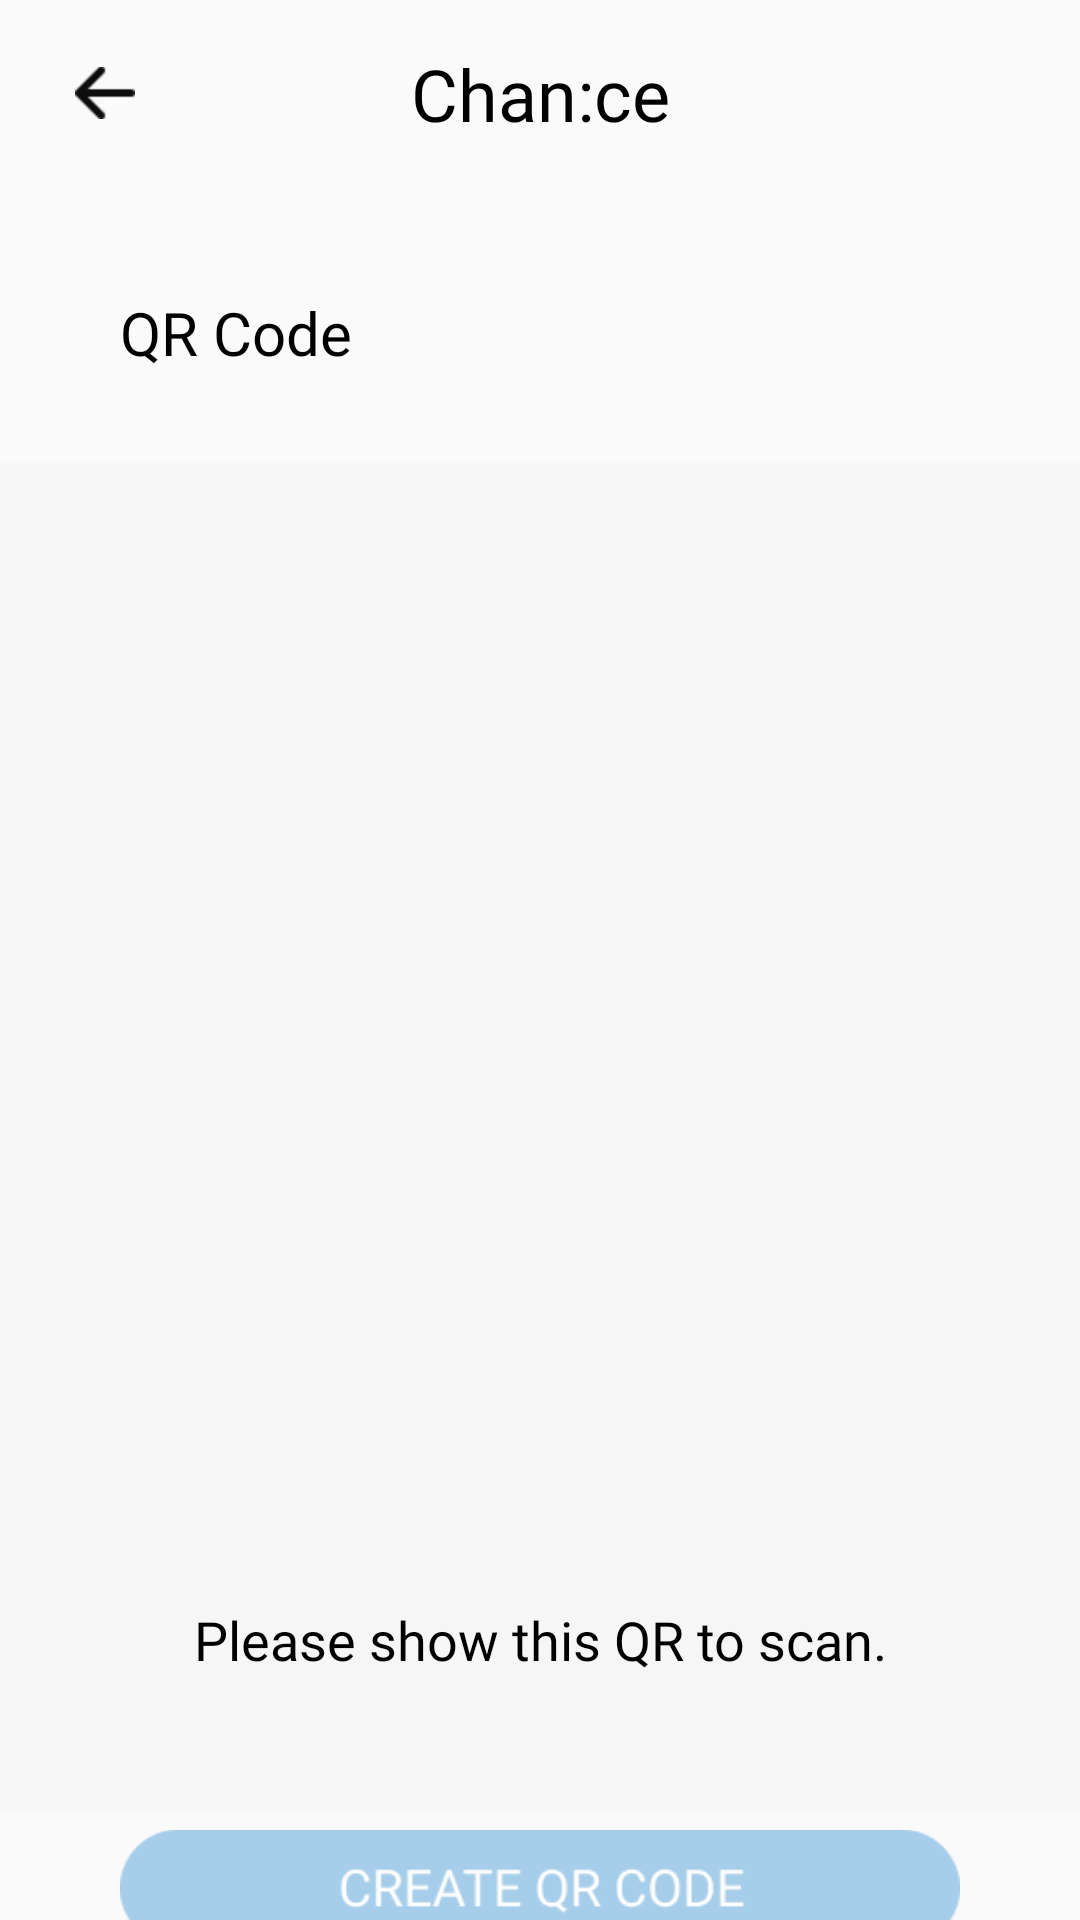

Icon bounding boxes for this 1080x1920 phone screenshot, format (left=x1, top=y1, right=x2, bottom=y2):
arrow back: (left=75, top=67, right=135, bottom=119)
